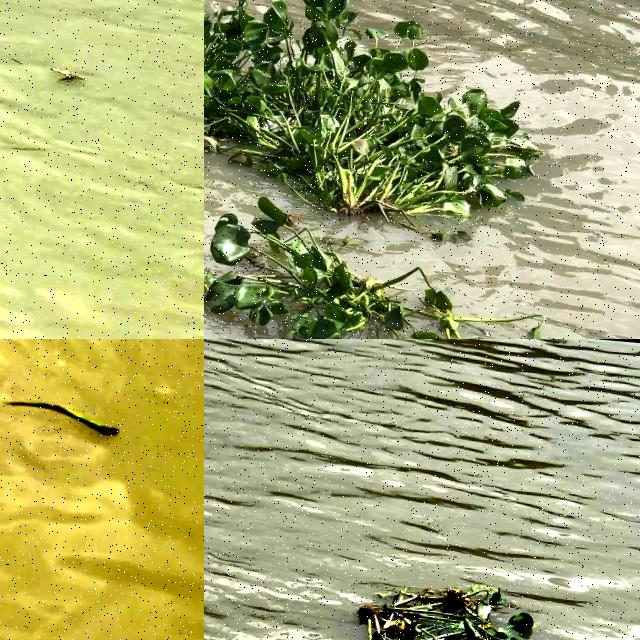water-hyacinth: (205, 1, 565, 239), (205, 193, 565, 340), (346, 569, 539, 640)
